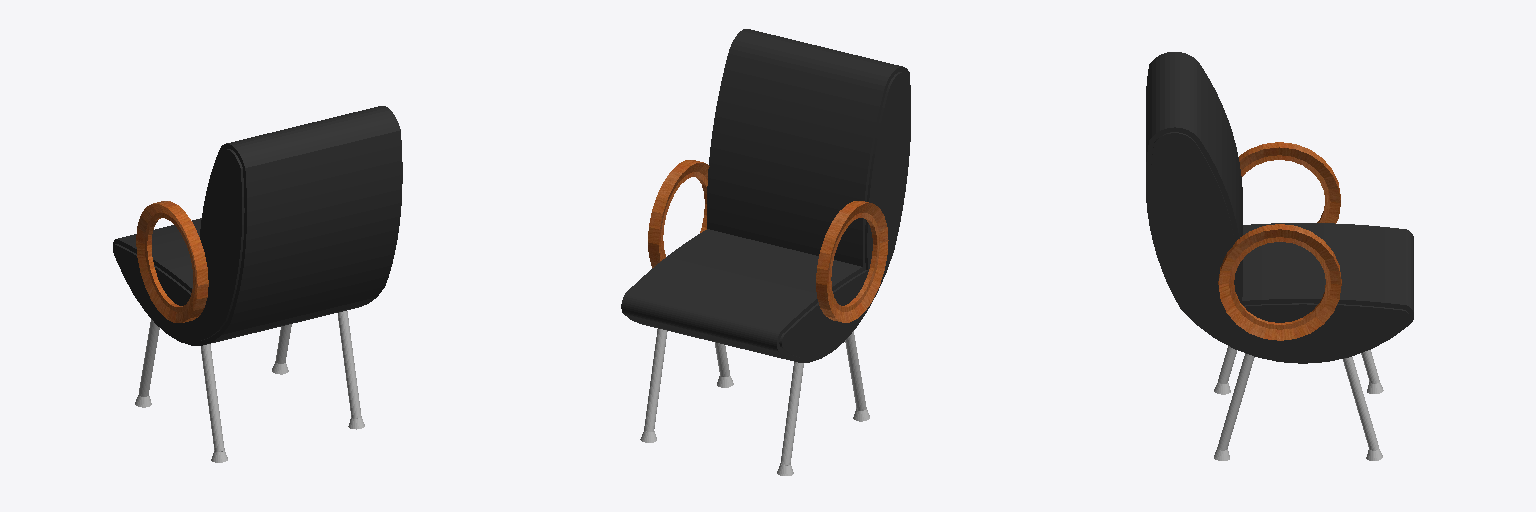
The picture shows the model from 3 angles: view 1: azimuth 30°, elevation 25°; view 2: azimuth 150°, elevation 25°; view 3: azimuth 270°, elevation 25°; orthographic projection.
Parts seen in each view (by area): view 1: mesh1_mesh1-geometry, mesh5_mesh5-geometry, mesh14_mesh14-geometry, mesh12_mesh12-geometry, mesh11_mesh11-geometry; view 2: mesh1_mesh1-geometry, mesh5_mesh5-geometry, mesh6_mesh6-geometry, mesh10_mesh10-geometry, mesh11_mesh11-geometry, mesh14_mesh14-geometry; view 3: mesh1_mesh1-geometry, mesh6_mesh6-geometry, mesh5_mesh5-geometry, mesh12_mesh12-geometry, mesh10_mesh10-geometry.
Boxes of the visible parts, x1=… form: mesh1_mesh1-geometry: x1=113, y1=106, x2=402, y2=345; mesh5_mesh5-geometry: x1=136, y1=201, x2=208, y2=322; mesh14_mesh14-geometry: x1=201, y1=344, x2=224, y2=451; mesh12_mesh12-geometry: x1=338, y1=311, x2=361, y2=418; mesh11_mesh11-geometry: x1=139, y1=319, x2=159, y2=396; mesh1_mesh1-geometry: x1=621, y1=29, x2=910, y2=362; mesh5_mesh5-geometry: x1=816, y1=201, x2=888, y2=322; mesh6_mesh6-geometry: x1=648, y1=160, x2=709, y2=267; mesh10_mesh10-geometry: x1=644, y1=329, x2=667, y2=431; mesh11_mesh11-geometry: x1=780, y1=362, x2=803, y2=465; mesh14_mesh14-geometry: x1=845, y1=331, x2=866, y2=410; mesh1_mesh1-geometry: x1=1146, y1=52, x2=1413, y2=363; mesh6_mesh6-geometry: x1=1218, y1=224, x2=1341, y2=340; mesh5_mesh5-geometry: x1=1239, y1=142, x2=1340, y2=223; mesh12_mesh12-geometry: x1=1217, y1=353, x2=1254, y2=450; mesh10_mesh10-geometry: x1=1343, y1=357, x2=1378, y2=450.
Size of the model in its own units: 0.412 by 0.7366 by 0.5363.
Materials: 4 (1 with a texture image).